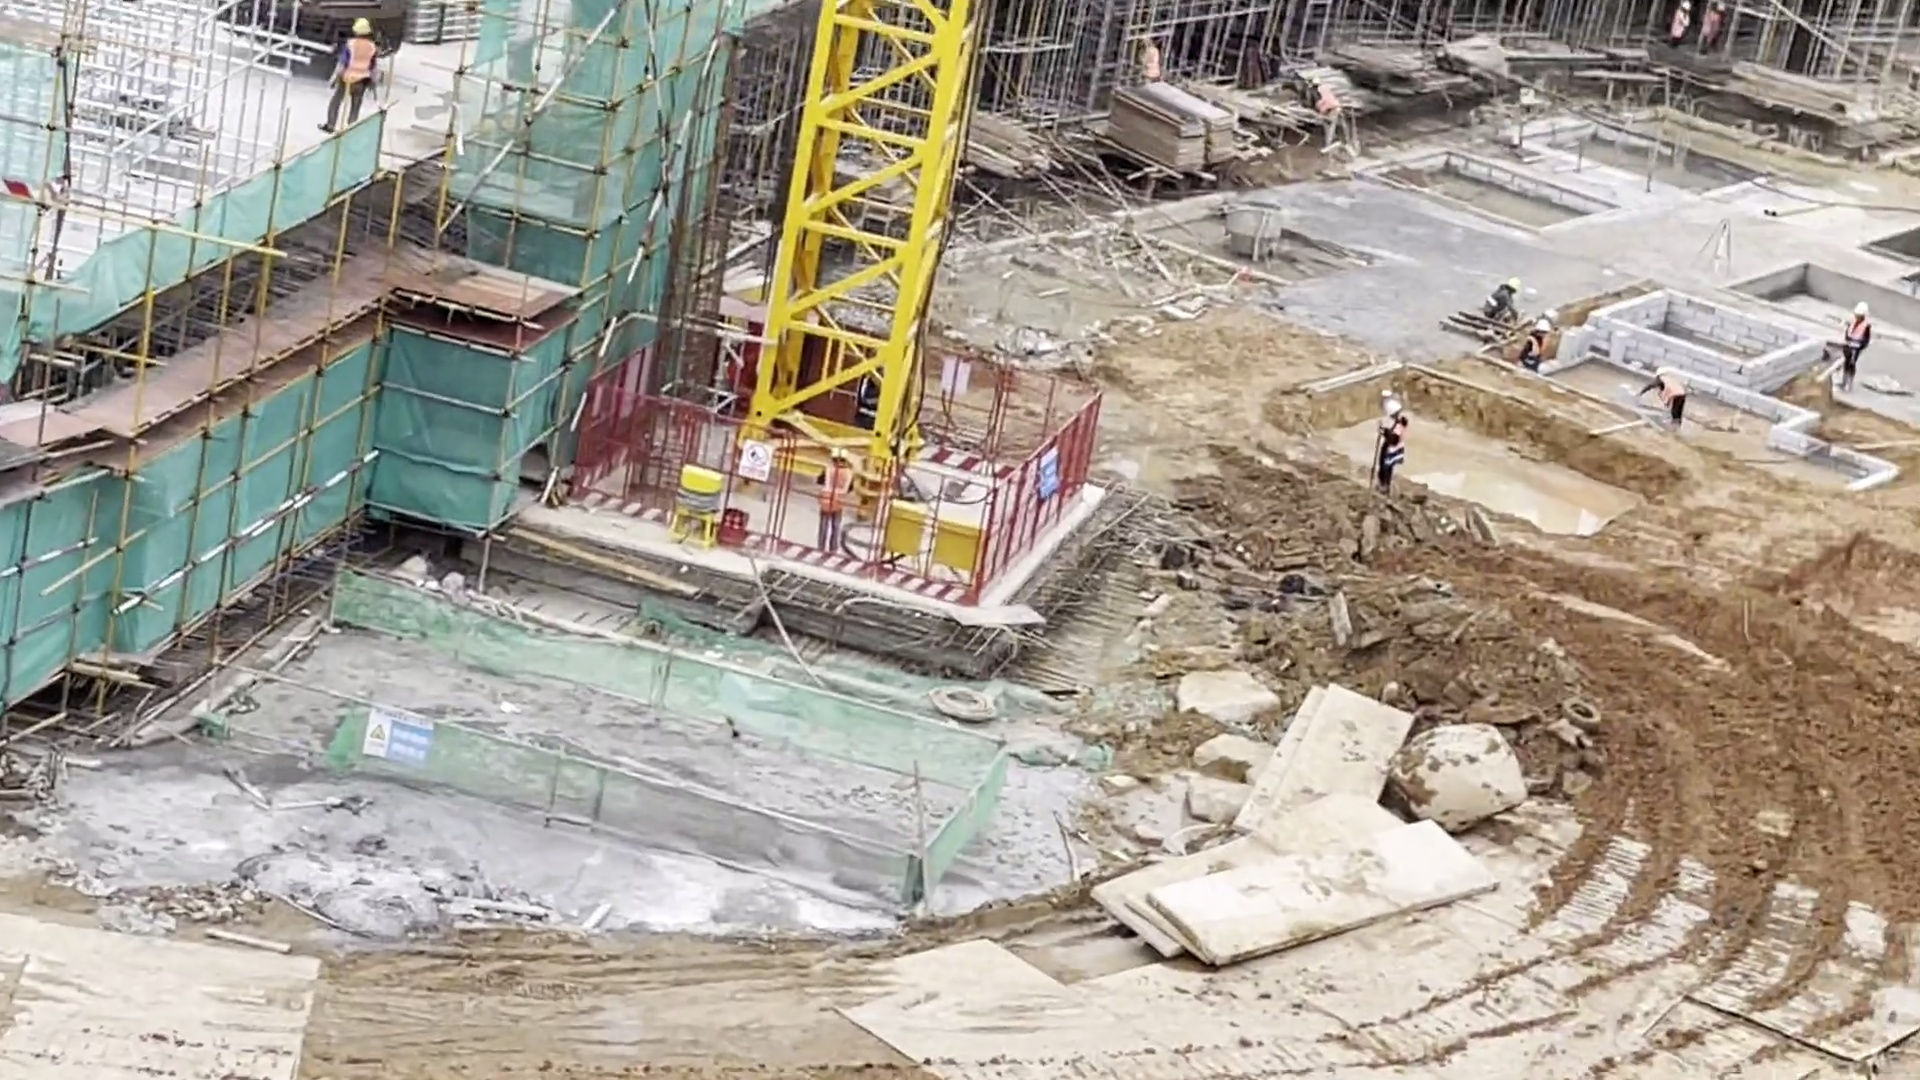helmet: (1503, 275, 1523, 291), (1380, 401, 1403, 414), (1533, 318, 1550, 332), (1853, 303, 1870, 317), (1141, 34, 1157, 45), (1654, 365, 1671, 375), (1310, 77, 1324, 86)
person: (333, 17, 375, 137), (816, 447, 853, 561), (1372, 389, 1408, 501), (1646, 361, 1689, 432), (1841, 304, 1873, 402), (1303, 71, 1341, 150), (1483, 268, 1525, 322), (1522, 318, 1552, 374), (1134, 32, 1164, 86), (1704, 4, 1721, 55), (1672, 3, 1689, 50)
vest: (821, 466, 855, 520), (343, 36, 375, 88), (1846, 318, 1871, 356), (1387, 424, 1408, 465), (1315, 87, 1343, 118), (1658, 377, 1686, 403), (1141, 48, 1163, 81), (1526, 337, 1548, 361)
